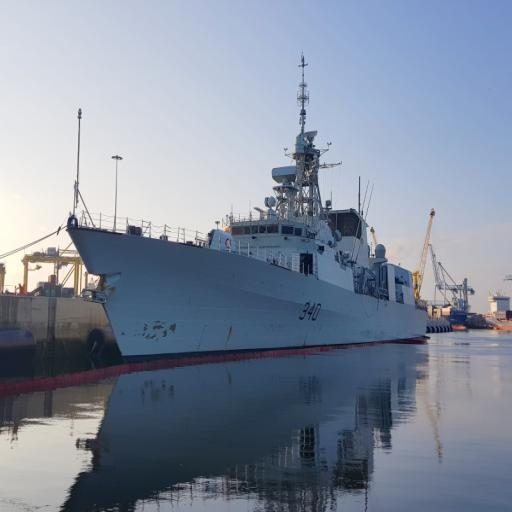Fragata: (64, 43, 433, 366)
